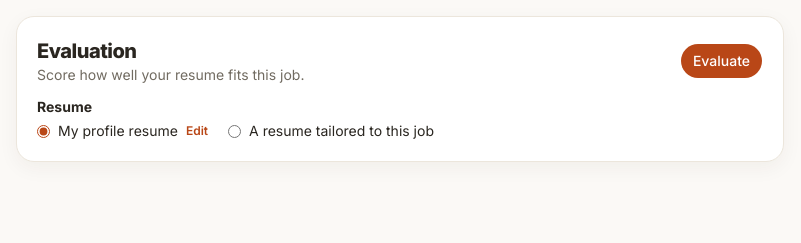
Test: JobEvaluationPanel › doesn't evaluate when saving the resume choice fails
What coordinates should you click on to do the following:
click the button "Evaluate"
I would click on:
 (721, 61)
Its box is [680, 43, 763, 79].
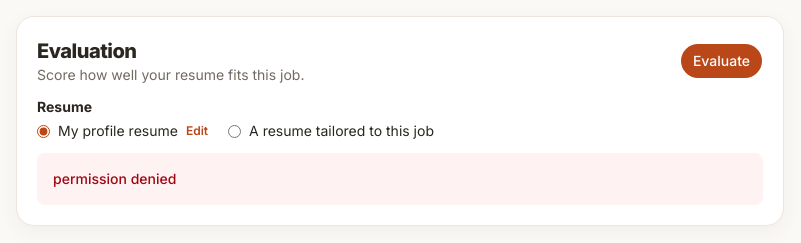
Expected: the message reads "permission denied", [53, 170, 176, 187]
